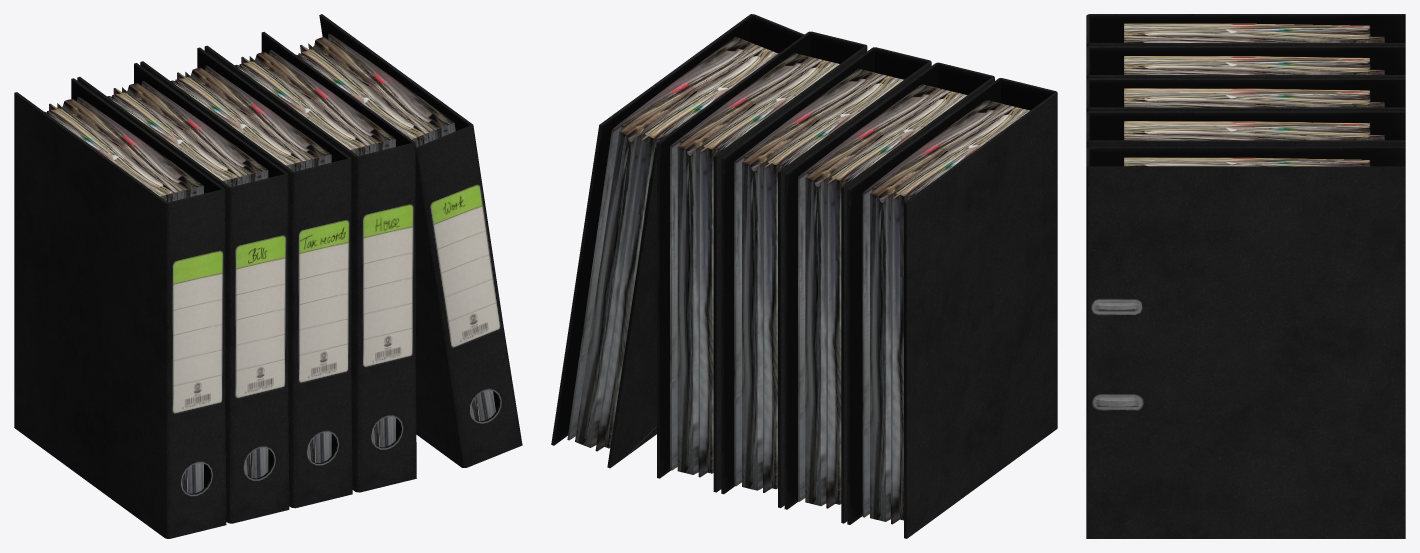
The picture shows the model from 3 angles, left to right: view 1: azimuth 30°, elevation 25°; view 2: azimuth 150°, elevation 25°; view 3: azimuth 270°, elevation 25°; orthographic projection. The views are drawn at different scales.
Parts seen in each view (by area): view 1: folder_LP_nolabel, folder_LP_Work, folder_LP_House, folder_LP_TaxRecords, folder_LP_Bills; view 2: folder_LP_nolabel, folder_LP_Work, folder_LP_House, folder_LP_TaxRecords, folder_LP_Bills; view 3: folder_LP_Work, folder_LP_House, folder_LP_TaxRecords, folder_LP_Bills, folder_LP_nolabel.
Boxes of the visible parts, box(x1,y1,x2,y2) form: folder_LP_nolabel: box(14, 78, 226, 538); folder_LP_Work: box(296, 14, 522, 467); folder_LP_House: box(204, 32, 416, 492); folder_LP_TaxRecords: box(140, 47, 352, 508); folder_LP_Bills: box(77, 63, 289, 523); folder_LP_nolabel: box(847, 78, 1057, 538); folder_LP_Work: box(551, 14, 804, 468); folder_LP_House: box(657, 31, 867, 492); folder_LP_TaxRecords: box(721, 47, 931, 507); folder_LP_Bills: box(784, 62, 994, 523); folder_LP_Work: box(1086, 147, 1405, 538); folder_LP_House: box(1086, 111, 1405, 147); folder_LP_TaxRecords: box(1086, 78, 1405, 112); folder_LP_Bills: box(1086, 46, 1405, 79); folder_LP_nolabel: box(1086, 14, 1405, 47).
Size of the model in its own units: 42.68 by 39.09 by 31.71.
5 materials, 5 textured.
